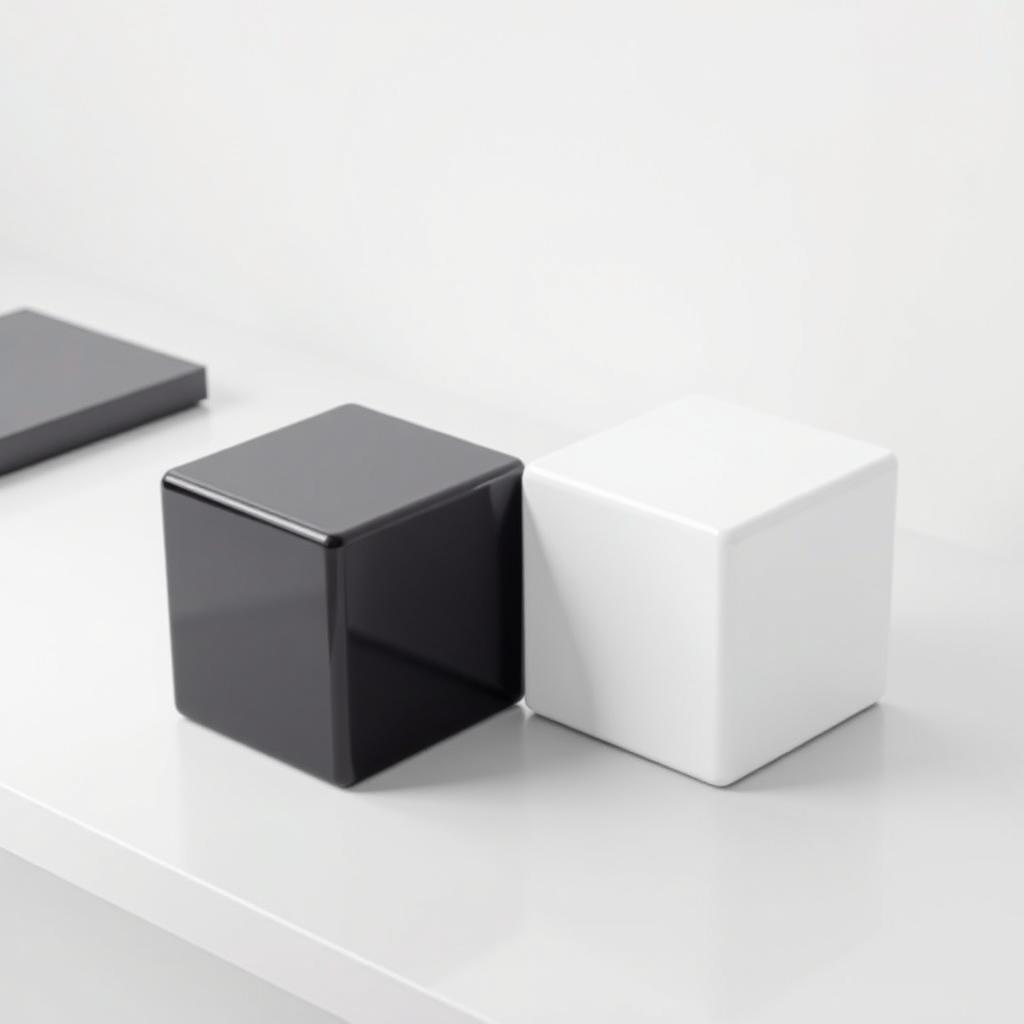cube: (520, 391, 898, 787), (160, 400, 524, 788)
